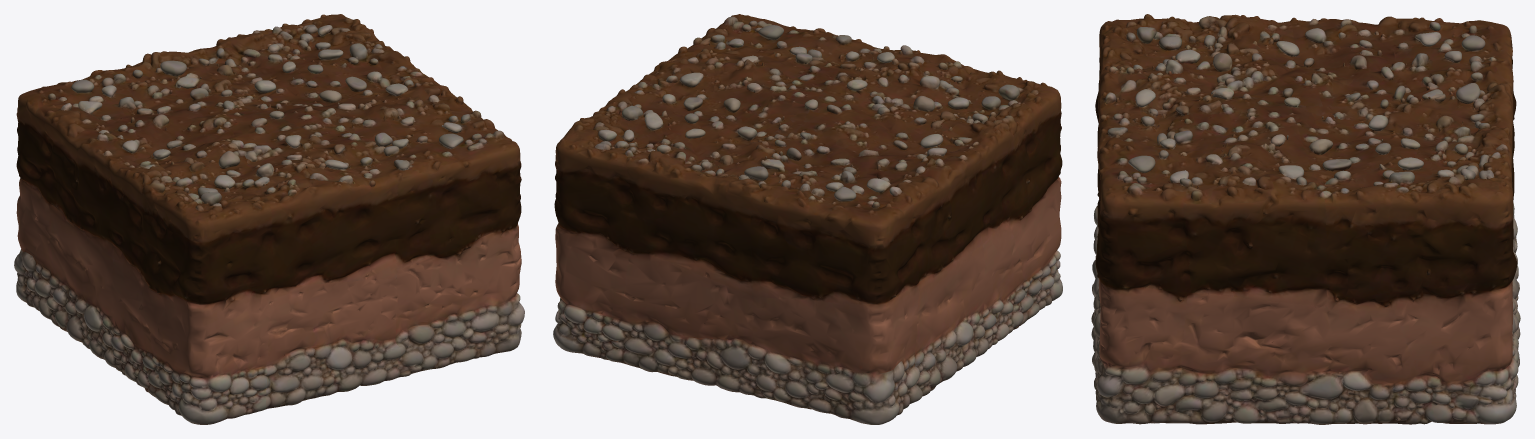
3 renders of one model, left to right at view 1: azimuth 30°, elevation 25°; view 2: azimuth 150°, elevation 25°; view 3: azimuth 270°, elevation 25°, orthographic. The views are drawn at different scales.
Visible parts, largest first — view 1: tripo_node_b492e90d-8453-4620-8a5c-329a09a77919; view 2: tripo_node_b492e90d-8453-4620-8a5c-329a09a77919; view 3: tripo_node_b492e90d-8453-4620-8a5c-329a09a77919.
Boxes of the visible parts, bbox=[...] form: tripo_node_b492e90d-8453-4620-8a5c-329a09a77919: bbox=[14, 14, 524, 424]; tripo_node_b492e90d-8453-4620-8a5c-329a09a77919: bbox=[553, 14, 1062, 424]; tripo_node_b492e90d-8453-4620-8a5c-329a09a77919: bbox=[1091, 14, 1520, 424].
Size of the model in its own units: 0.3323 by 0.2 by 0.3202.
Materials: 1 (1 with a texture image).
